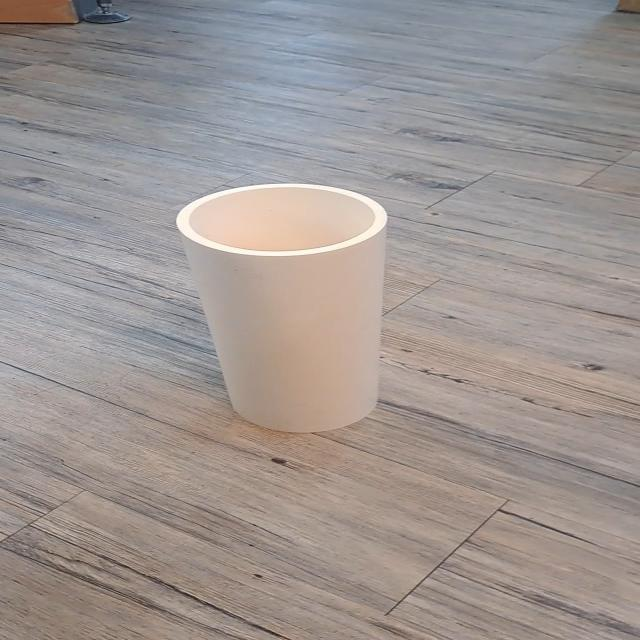CORAL: (137, 165, 464, 444)
